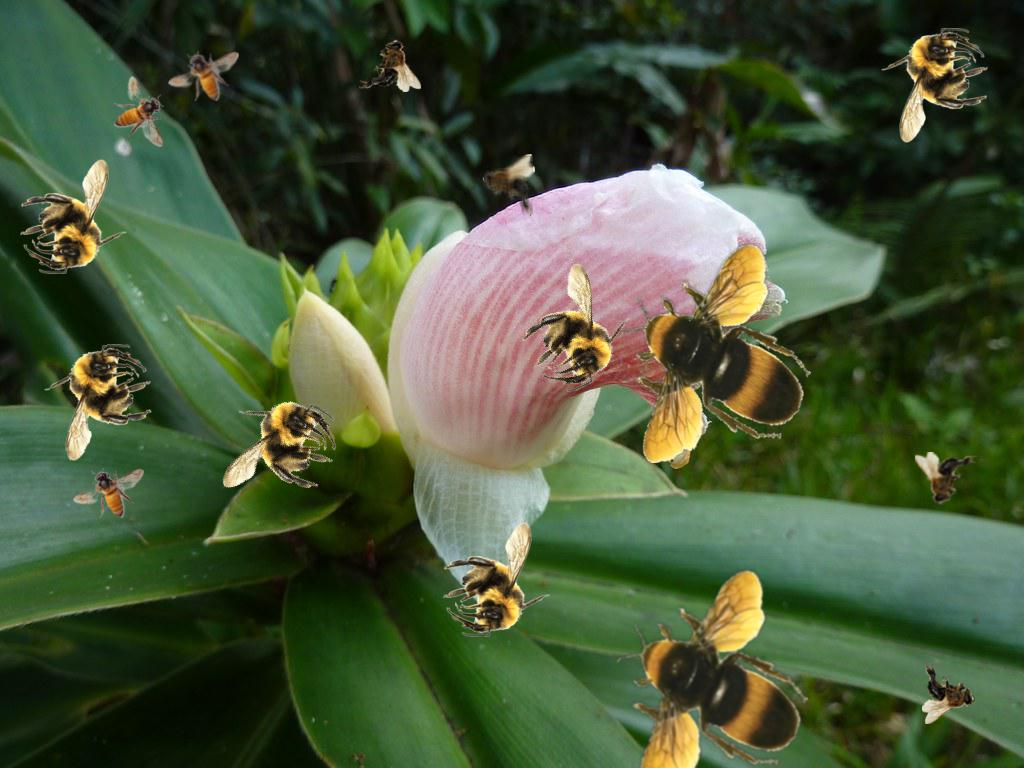Bee: (620, 243, 811, 463), (617, 569, 808, 768), (202, 374, 353, 527), (501, 252, 648, 403), (42, 342, 155, 463), (20, 159, 127, 274), (881, 28, 988, 143), (443, 522, 550, 637), (114, 76, 164, 147), (168, 51, 239, 101), (73, 468, 144, 518), (359, 39, 421, 92), (922, 662, 975, 724), (915, 452, 977, 505), (482, 154, 535, 216)
